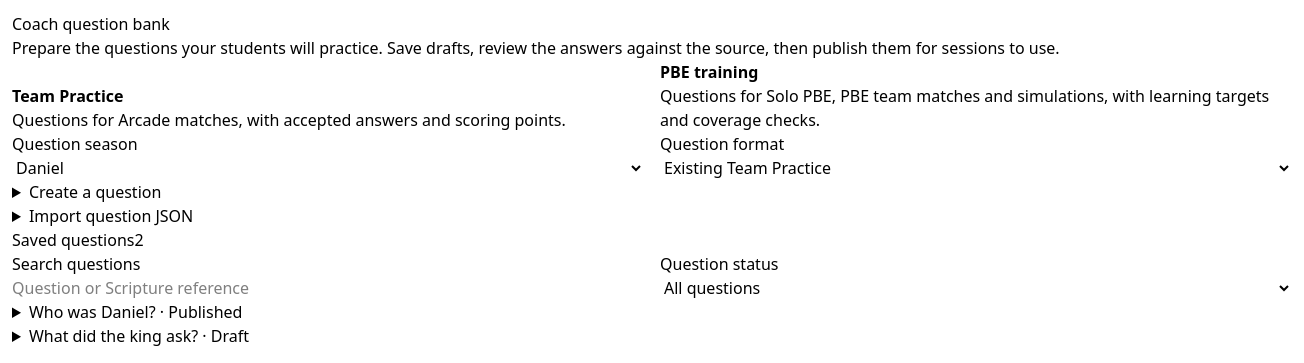
Test case: Coach question discovery › shows an empty state for the selected season even when another has questions
Select "Joshua" in the dropdown labelled "Question season": (328, 168) [12, 156, 644, 180]
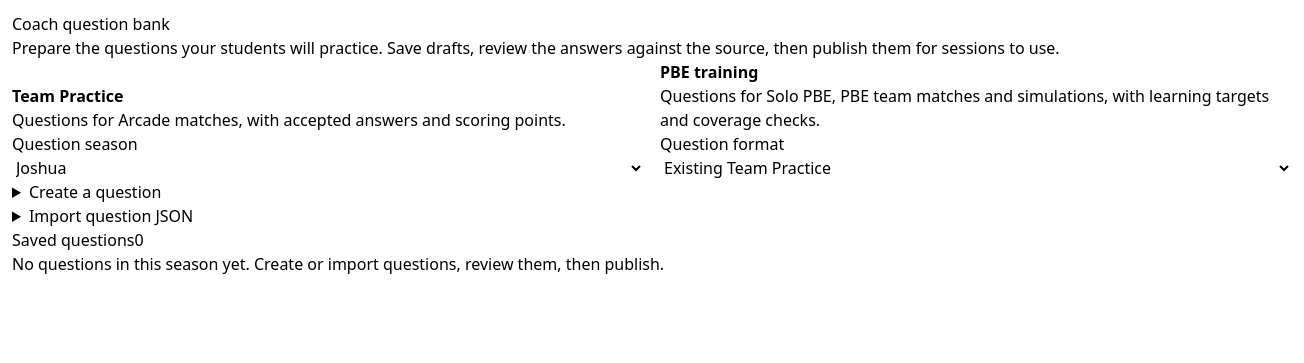
Now the text "No questions in this season yet" is shown, box [12, 253, 664, 275]
Now the heading "Who was Daniel? · Published" is gone
